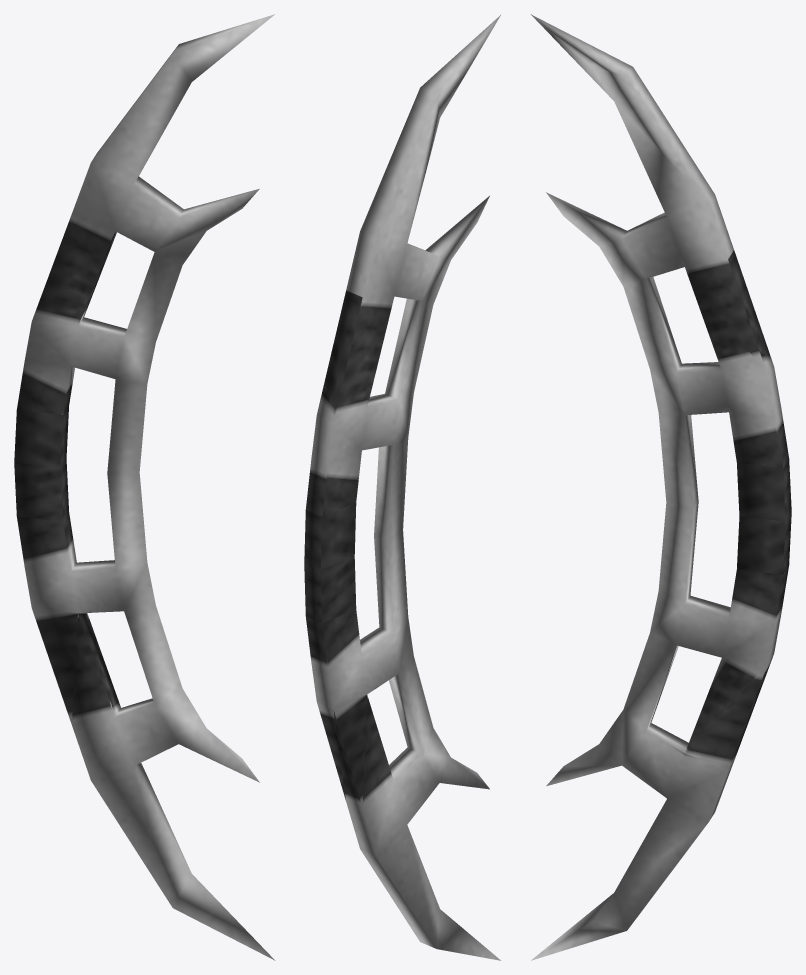
Rendered from BatLeth.fbx.
The picture shows the model from 3 angles, left to right: view 1: azimuth 90°, elevation 25°; view 2: azimuth 150°, elevation 25°; view 3: azimuth 270°, elevation 25°; orthographic projection.
Parts seen in each view (by area): view 1: node_251cb98a_1419_4519_bda0_718510ed3072_mesh0; view 2: node_251cb98a_1419_4519_bda0_718510ed3072_mesh0; view 3: node_251cb98a_1419_4519_bda0_718510ed3072_mesh0.
Boxes of the visible parts, bbox=[...] form: node_251cb98a_1419_4519_bda0_718510ed3072_mesh0: bbox=[14, 14, 275, 960]; node_251cb98a_1419_4519_bda0_718510ed3072_mesh0: bbox=[304, 15, 501, 960]; node_251cb98a_1419_4519_bda0_718510ed3072_mesh0: bbox=[530, 14, 791, 960].
Bounding box in the file's own units: 0.0559 × 0.7251 × 0.1815.
